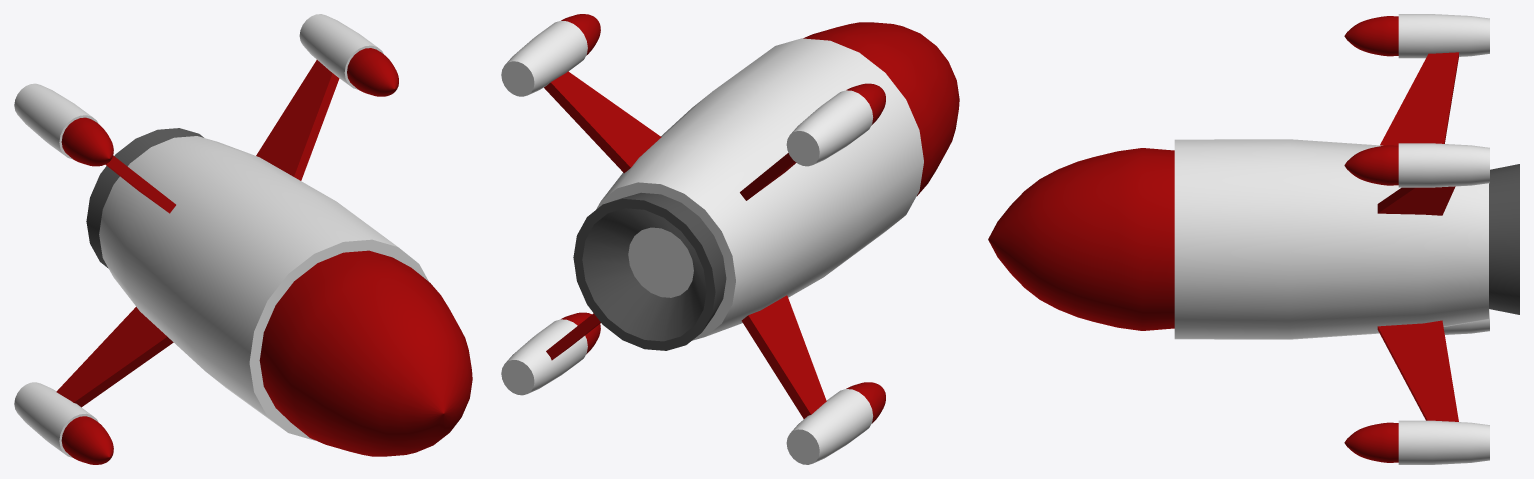
The model's file is Missel_Teleguiado.fbx.
3 views of the same model, side by side, from view 1: azimuth 30°, elevation 25°; view 2: azimuth 150°, elevation 25°; view 3: azimuth 270°, elevation 25° (orthographic). The views are drawn at different scales.
Visible parts, largest first — view 1: pCylinder5, pSphere5, pCube3, pCube1, pCylinder2, pCylinder1, pCylinder3, pPipe1, pSphere2, pSphere1, pSphere3, pCube2; view 2: pCylinder5, pPipe1, pSphere5, pCube3, pCube1, pCylinder2, pCylinder1, pCylinder3, pCylinder4, pCube2, pCube4, pSphere3 (+3 smaller); view 3: pCylinder5, pSphere5, pCube4, pPipe1, pCube2, pCylinder1, pCylinder4, pCylinder2, pCube1, pSphere1, pSphere2, pSphere4.
Boxes of the visible parts, x1,y1,x2,y2 form: pCylinder5: [99, 136, 428, 440]; pSphere5: [259, 250, 472, 456]; pCube3: [56, 307, 173, 407]; pCube1: [256, 60, 339, 180]; pCylinder2: [14, 83, 98, 159]; pCylinder1: [299, 14, 383, 89]; pCylinder3: [14, 382, 98, 457]; pPipe1: [86, 128, 203, 268]; pSphere2: [61, 117, 113, 166]; pSphere1: [347, 48, 398, 96]; pSphere3: [61, 416, 113, 464]; pCube2: [105, 155, 175, 213]; pCylinder5: [596, 38, 923, 340]; pPipe1: [573, 192, 726, 350]; pSphere5: [803, 22, 959, 195]; pCube3: [741, 295, 826, 418]; pCube1: [544, 71, 661, 173]; pCylinder2: [786, 90, 873, 166]; pCylinder1: [501, 20, 587, 96]; pCylinder3: [786, 389, 873, 464]; pCylinder4: [501, 319, 587, 395]; pCube2: [740, 153, 796, 200]; pCube4: [546, 313, 600, 360]; pSphere3: [846, 382, 885, 423]; pCylinder5: [1174, 139, 1488, 339]; pSphere5: [988, 148, 1174, 330]; pCube4: [1377, 320, 1458, 421]; pPipe1: [1489, 164, 1519, 314]; pCube2: [1380, 52, 1459, 145]; pCylinder1: [1398, 143, 1489, 187]; pCylinder4: [1398, 420, 1489, 464]; pCylinder2: [1398, 14, 1489, 58]; pCube1: [1377, 186, 1455, 215]; pSphere1: [1344, 145, 1398, 185]; pSphere2: [1344, 16, 1398, 56]; pSphere4: [1344, 422, 1398, 462].
Size of the model in its own units: 6.88 by 6.88 by 10.43.
